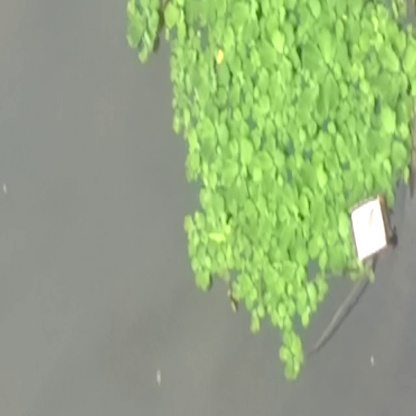milk-box: (347, 196, 394, 260)
